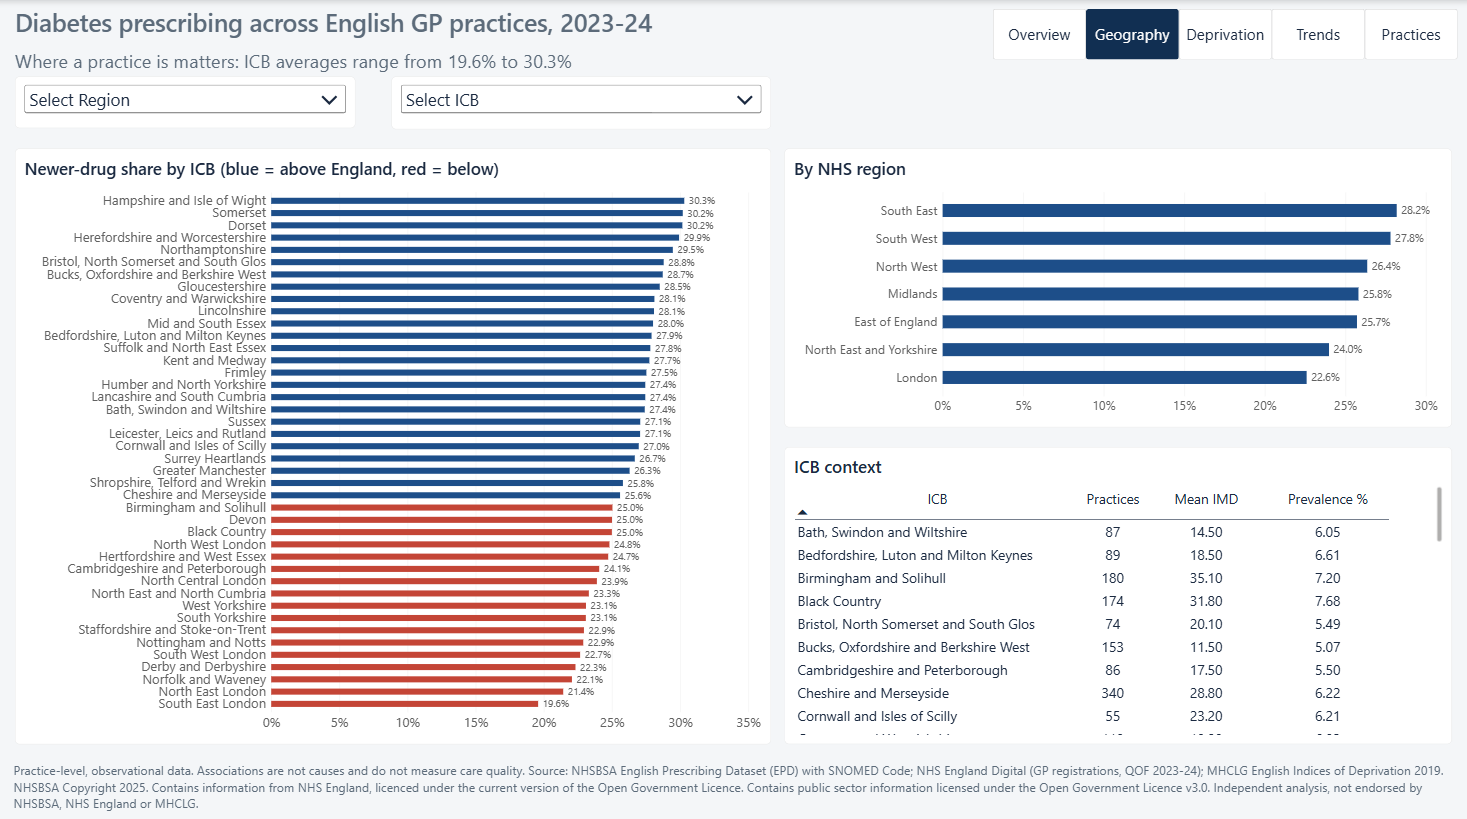

The dashboard page shown, as its layout file describes it:
{"tool":"powerbi","page":{"name":"Geography","canvas":[2560,1440],"ordinal":1},"visuals":[{"type":"listSlicer","fields":{"Values":["dashboard_icb.region"]},"box":[26.2,133.8,593.5,90.2],"z":0},{"type":"listSlicer","fields":{"Values":["dashboard_icb.icb_short"]},"box":[681.7,132.3,661.5,92],"z":1000},{"type":"pageNavigator","box":[1731,15,813.3,88],"z":2000},{"type":"textbox","box":[25,11.1,1341.7,72.2],"z":3000},{"type":"textbox","box":[26.2,84.4,1189.8,49.5],"z":4000},{"type":"textbox","box":[23.3,1329.5,2507.6,90.2],"z":5000},{"type":"clusteredBarChart","title":"Newer-drug share by ICB (blue = above England, red = below)","fields":{"Category":["dashboard_icb.icb_short"],"Y":["Sum(dashboard_icb.newer_share)"]},"box":[26.2,258.9,1317.8,1038.5],"z":6000},{"type":"clusteredBarChart","title":"By NHS region","fields":{"Category":["dashboard_practice.region"],"Y":["_Measures.Newer Share"]},"box":[1367.3,258.9,1163.6,485.8],"z":7000},{"type":"tableEx","title":"ICB context","fields":{"Values":["dashboard_icb.icb_short","dashboard_icb.practices","dashboard_icb.mean_imd_score","dashboard_icb.crude_prevalence_pct"]},"box":[1367.3,779.6,1163.6,517.8],"z":8000}]}

Visuals, with their boxes in screenshot pixels (x1, y1, x2, y2), scaled from the page's 2560x1440 canvas onto the 1467x819 screenshot:
listSlicer - dashboard_icb.region: select_region(15, 76, 355, 127)
listSlicer - dashboard_icb.icb_short: select_region(391, 75, 770, 128)
pageNavigator: select_region(992, 9, 1458, 59)
textbox: select_region(14, 6, 783, 47)
textbox: select_region(15, 48, 697, 76)
textbox: select_region(13, 756, 1450, 807)
"Newer-drug share by ICB (blue = above England, red = below)" clusteredBarChart: select_region(15, 147, 770, 738)
"By NHS region" clusteredBarChart: select_region(784, 147, 1450, 424)
"ICB context" tableEx: select_region(784, 443, 1450, 738)
